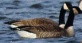goose: (14, 7, 82, 40), (5, 1, 72, 33)
